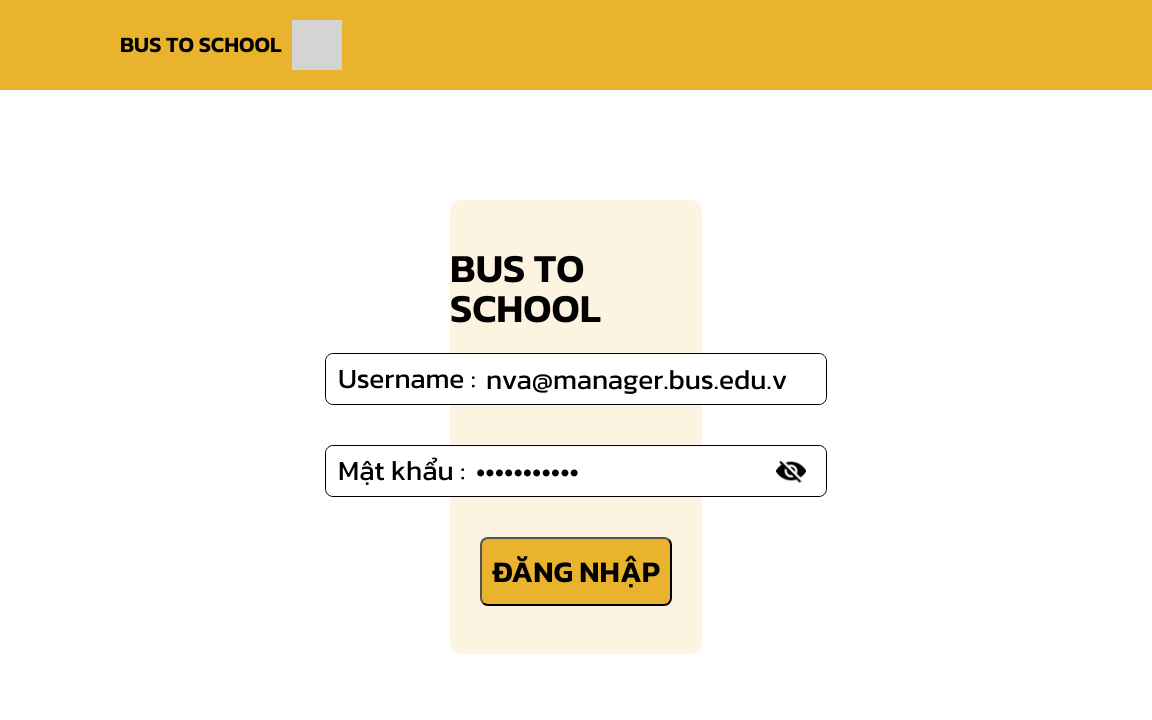
Test: Kiểm thử giao diện trang đăng nhập: › 4. Kiểm tra người dùng đăng nhập thất bại
Replace the text in the field labelled "Username :" with "error_username" at (576, 379), box [326,354,826,404]
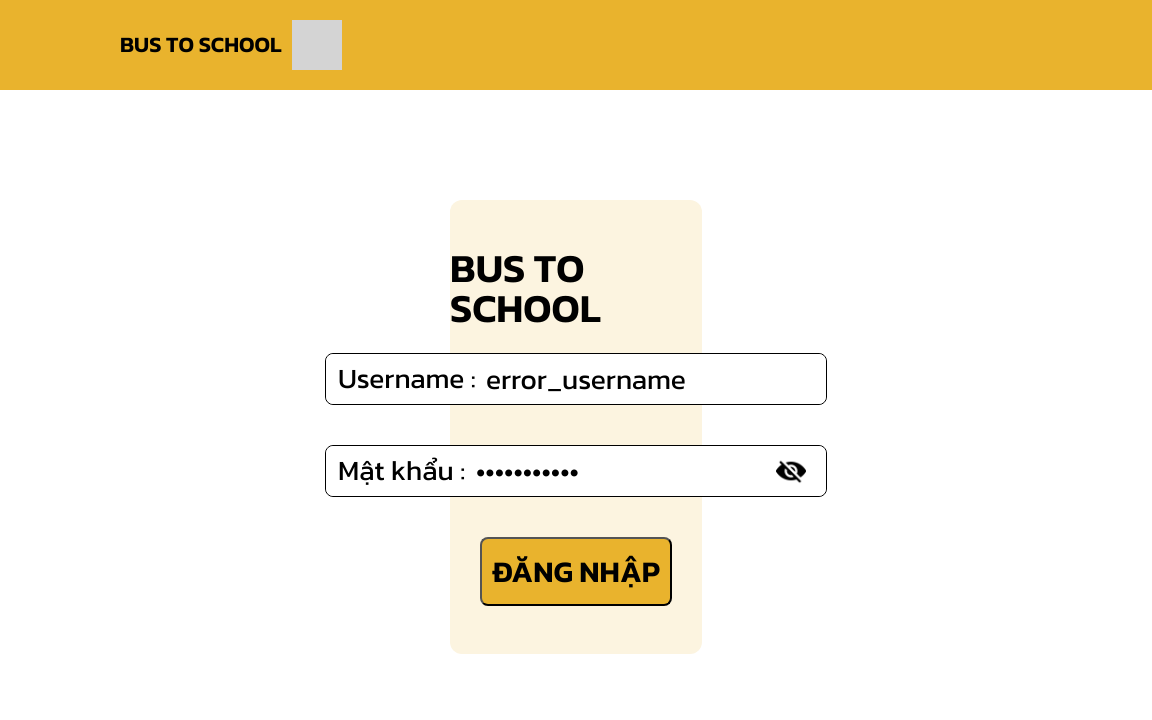
Type "error_password" into the password field labelled "Mật khẩu :".
click(576, 471); type("error_password")  # box [326,446,826,496]
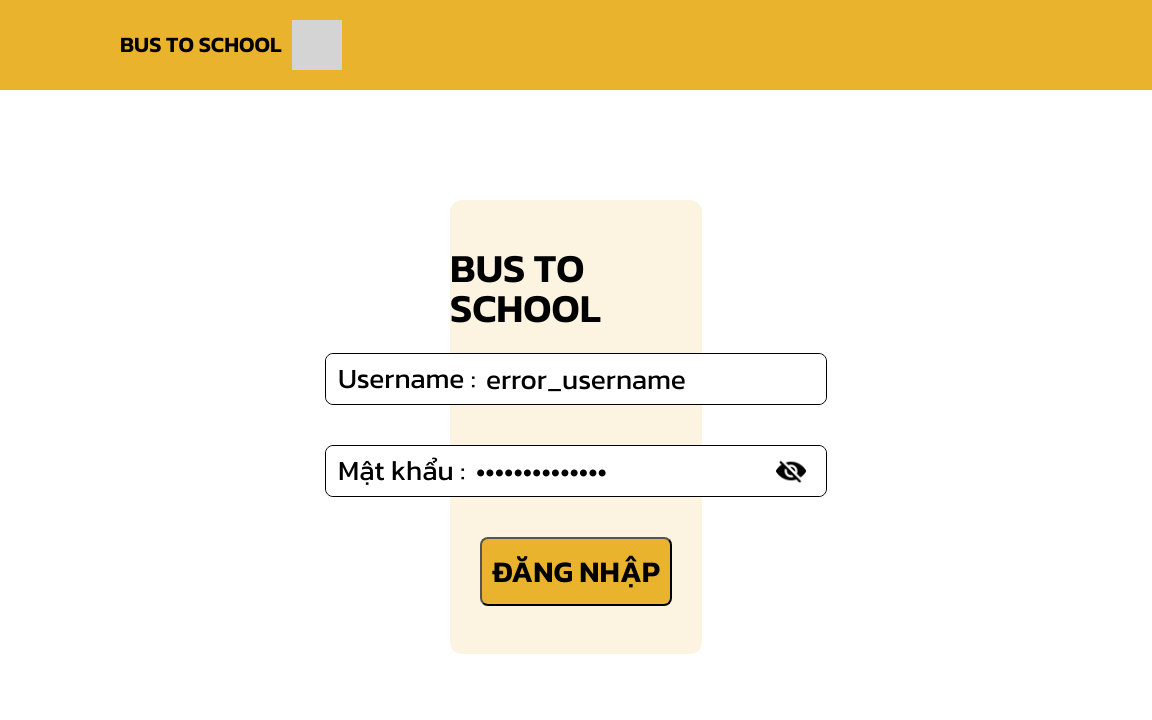
Click the button "ĐĂNG NHẬP".
click(576, 572)  # box [480,537,672,606]
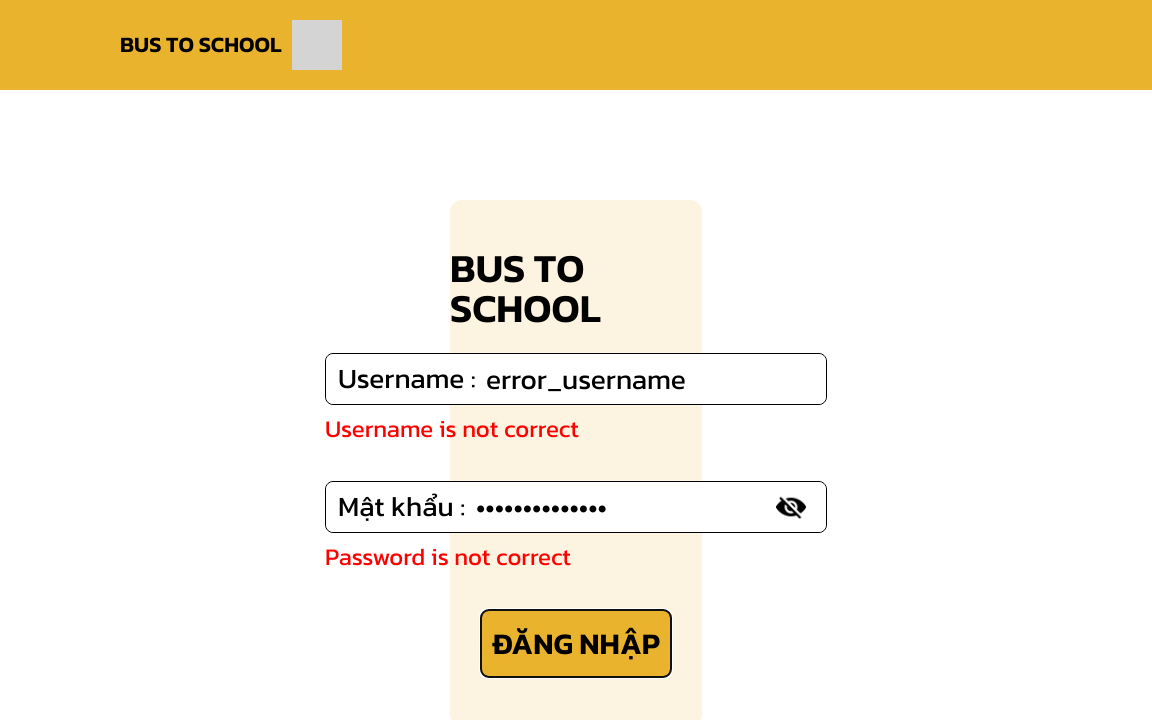
Expected: the text "Username is not correct" is shown, [325,411,579,446]
Expected: the text "Password is not correct" is shown, [325,539,571,574]
